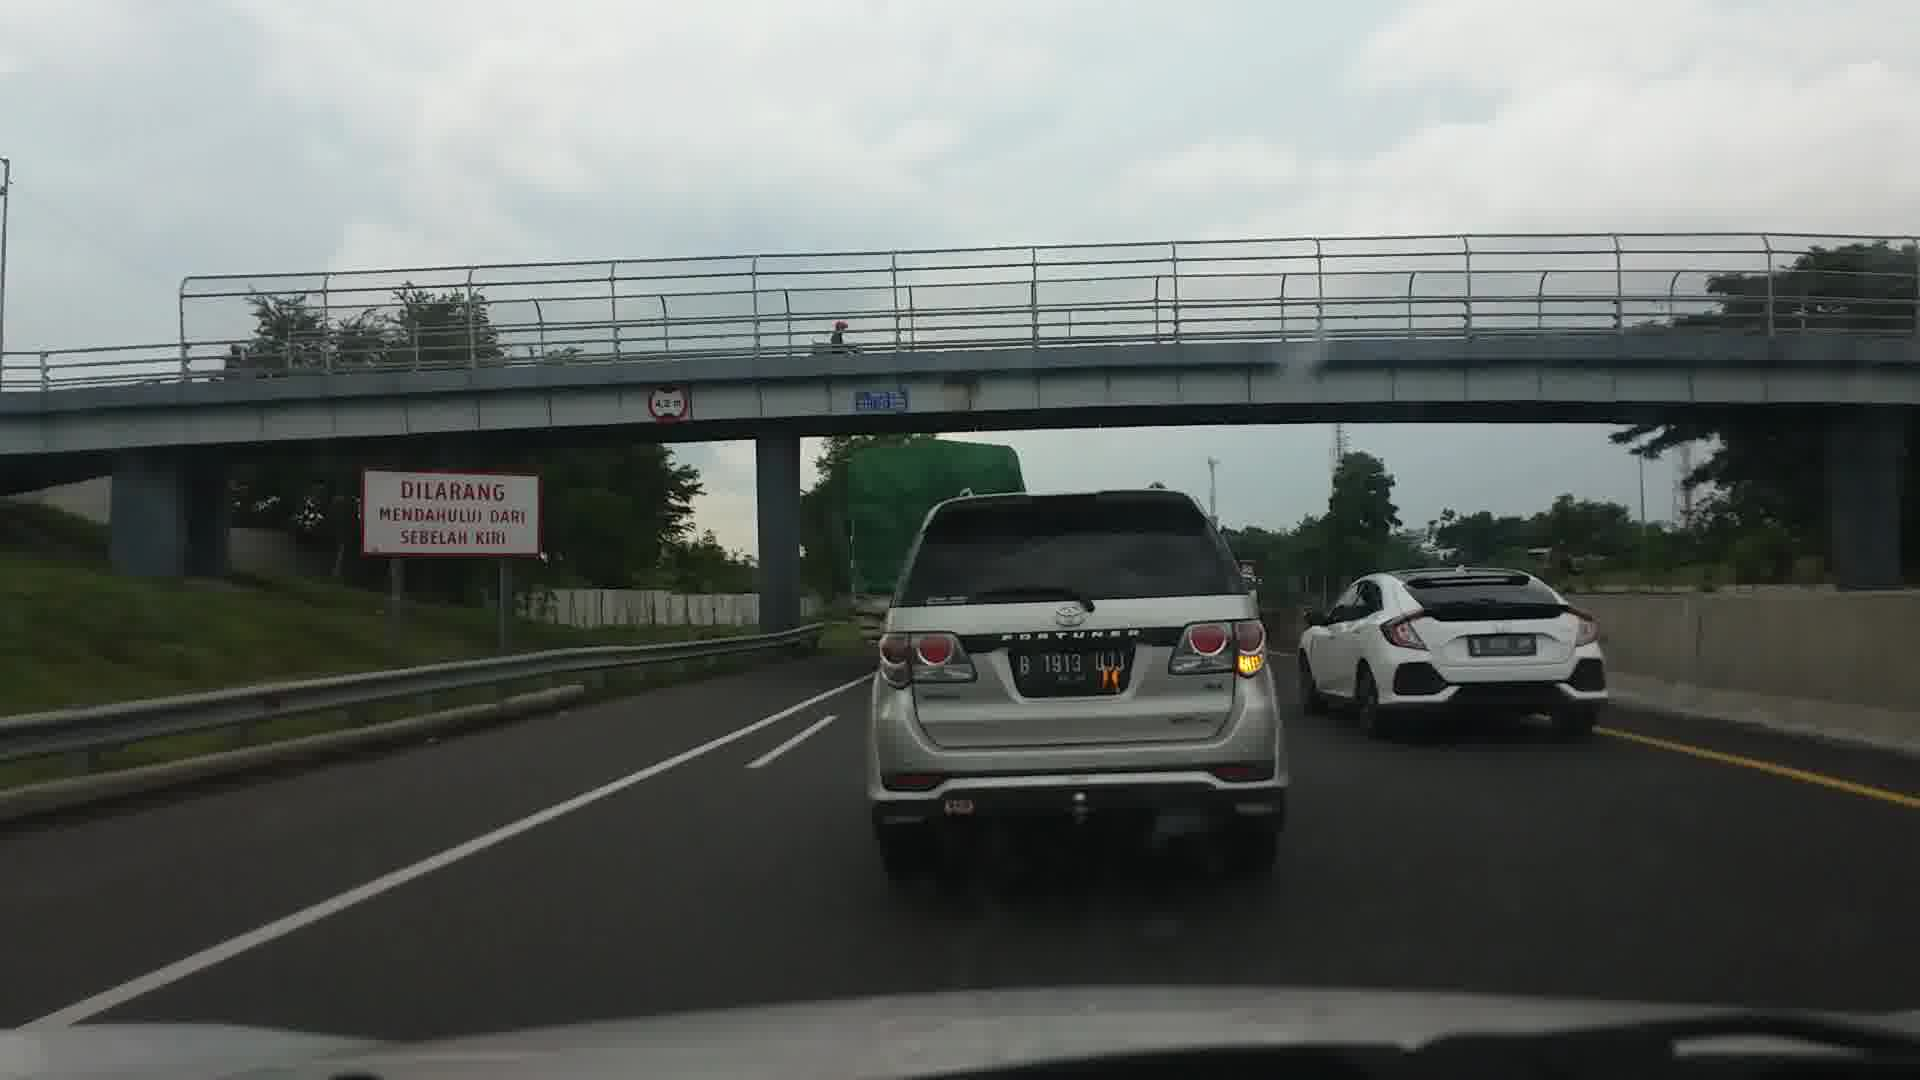plate_positive: (1015, 647, 1127, 683)
